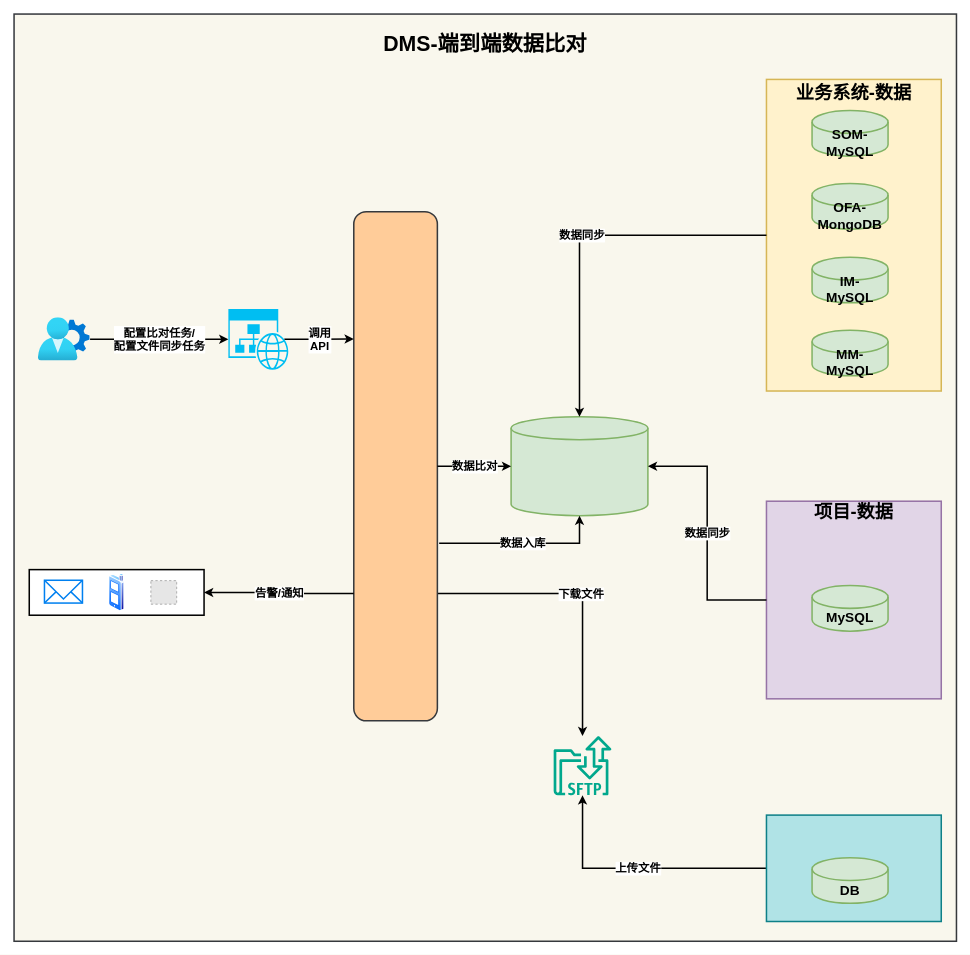
Image size: 970x955. Some labels were removed from this diagram. Grey dashed boxes stand in for pictures. Here are the shapes that lost their labels. From the top down, the box of each, then its label:
(38, 317, 90, 361): PM/ Develpoer
(353, 211, 438, 721): DMS
(510, 416, 648, 516): Databases （Hive、Doris、MySQL etc.）
(765, 814, 942, 922): 3RD System-数据
